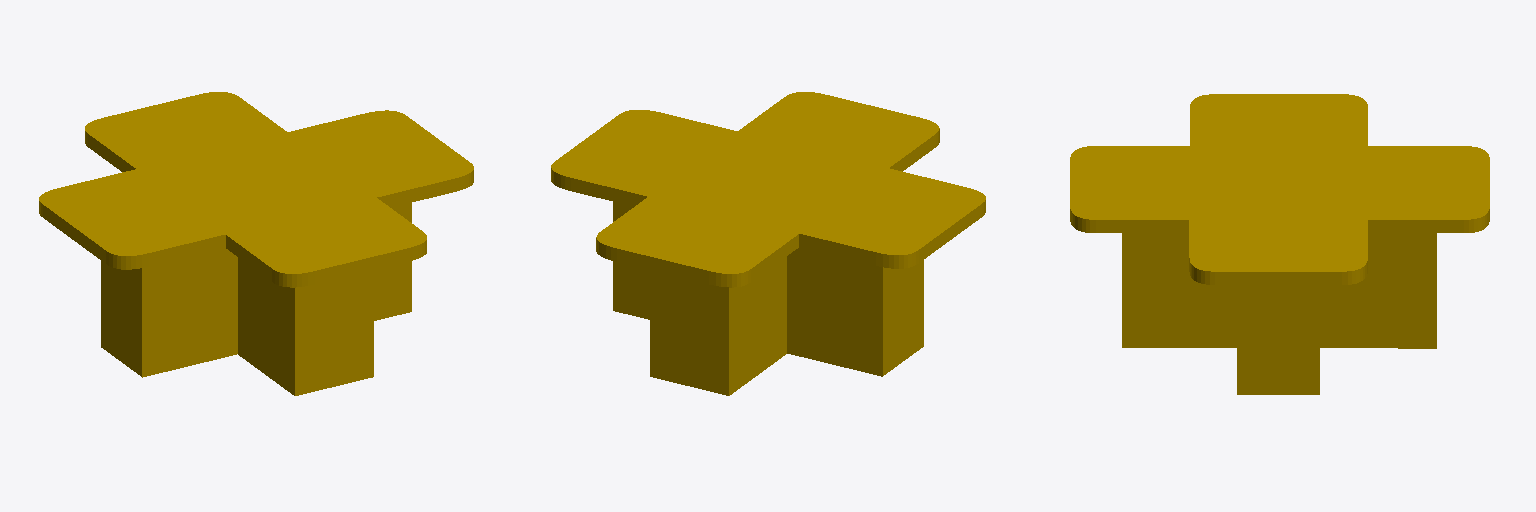
Rendered from table1.obj.
3 views of the same model, side by side, from view 1: azimuth 30°, elevation 25°; view 2: azimuth 150°, elevation 25°; view 3: azimuth 270°, elevation 25° (orthographic).
Visible parts, largest first — view 1: Table_01.001; view 2: Table_01.001; view 3: Table_01.001.
Boxes of the visible parts, x1=… form: Table_01.001: x1=39, y1=92, x2=473, y2=395; Table_01.001: x1=551, y1=92, x2=985, y2=395; Table_01.001: x1=1070, y1=94, x2=1489, y2=394.
Size of the model in its own units: 0.736 by 0.2826 by 0.736.